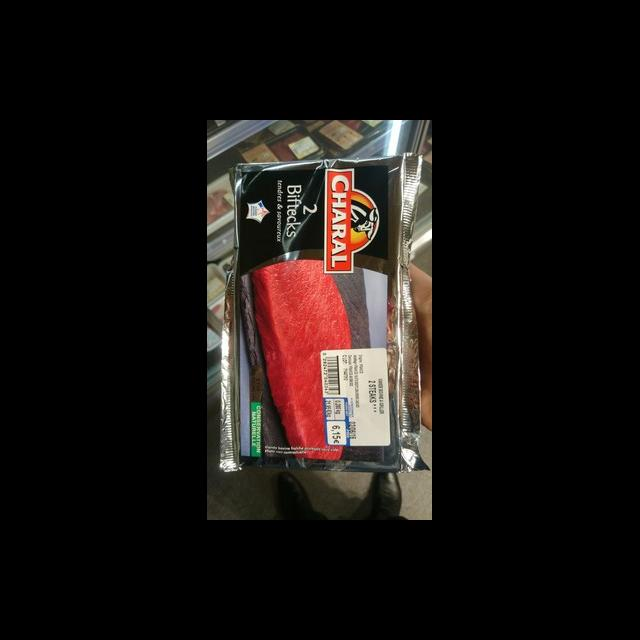beef: (252, 259, 351, 459)
